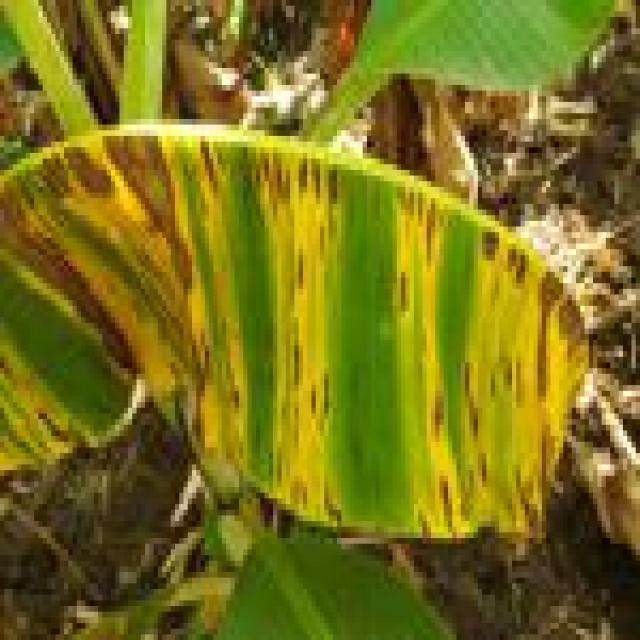Early_rust: (2, 99, 640, 554)
